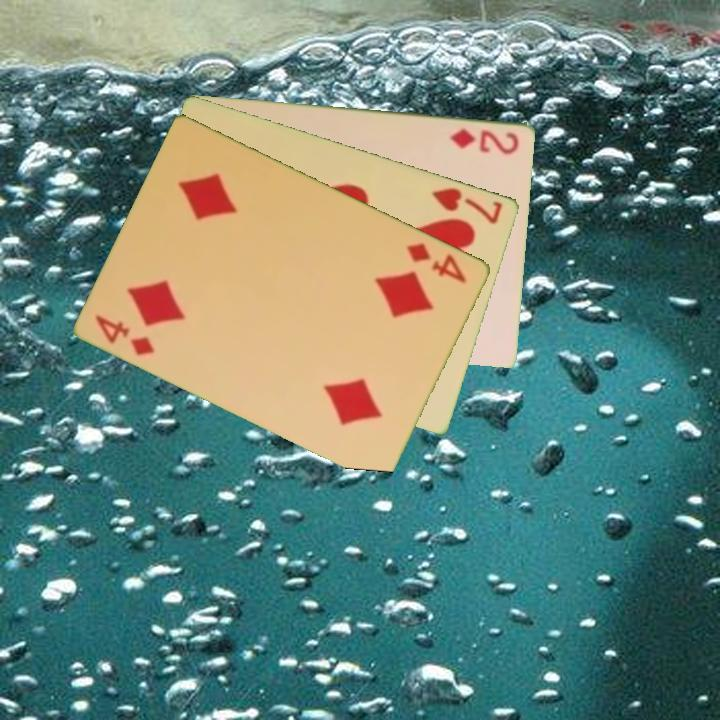2d: (447, 125, 522, 157)
4d: (92, 311, 159, 359), (403, 239, 470, 286)
7h: (428, 183, 506, 227)
